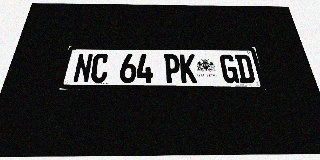4: (136, 54, 153, 83)
6: (119, 54, 137, 83)
C: (89, 54, 109, 83)
D: (234, 54, 256, 83)
G: (219, 54, 239, 83)
K: (179, 54, 197, 83)
N: (72, 53, 93, 83)
P: (164, 54, 181, 83)
